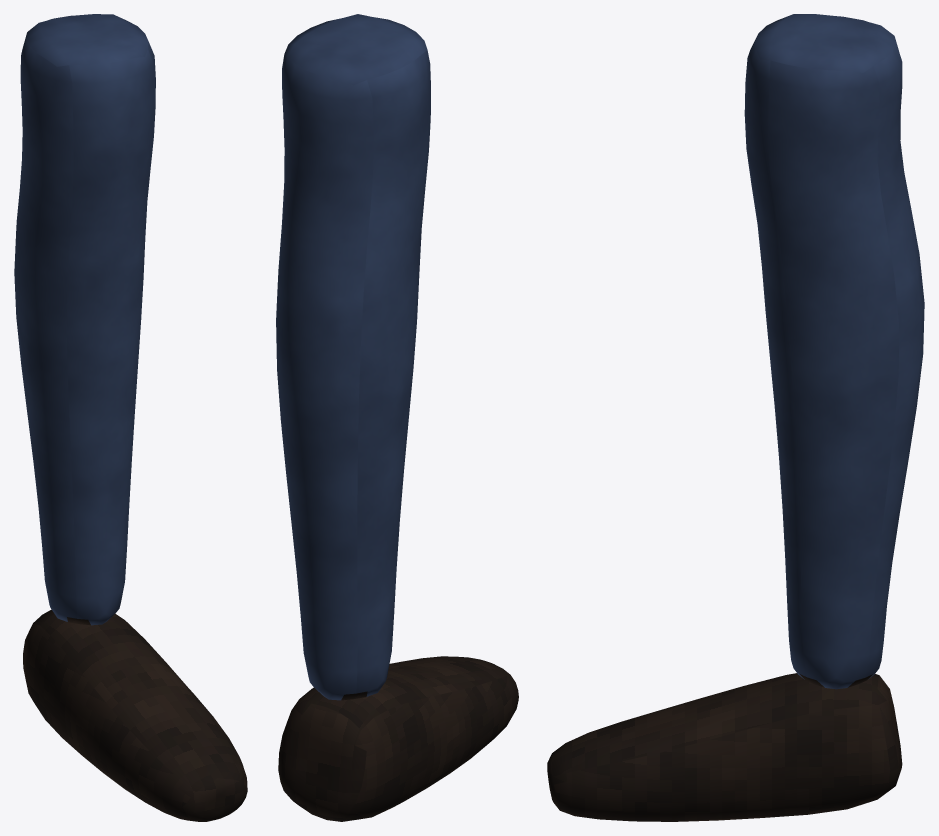
File: piernaizq.obj
3 renders of one model, left to right at view 1: azimuth 30°, elevation 25°; view 2: azimuth 150°, elevation 25°; view 3: azimuth 270°, elevation 25°, orthographic. The views are drawn at different scales.
Visible parts, largest first — view 1: PiernaIzq; view 2: PiernaIzq; view 3: PiernaIzq.
Part boxes in pixels (x1,y1,x2,y2): PiernaIzq: [14, 14, 247, 821]; PiernaIzq: [276, 14, 518, 821]; PiernaIzq: [547, 14, 924, 821].
Size of the model in its own units: 0.0637 by 0.3738 by 0.1653.
Materials: 2 (2 with a texture image).
